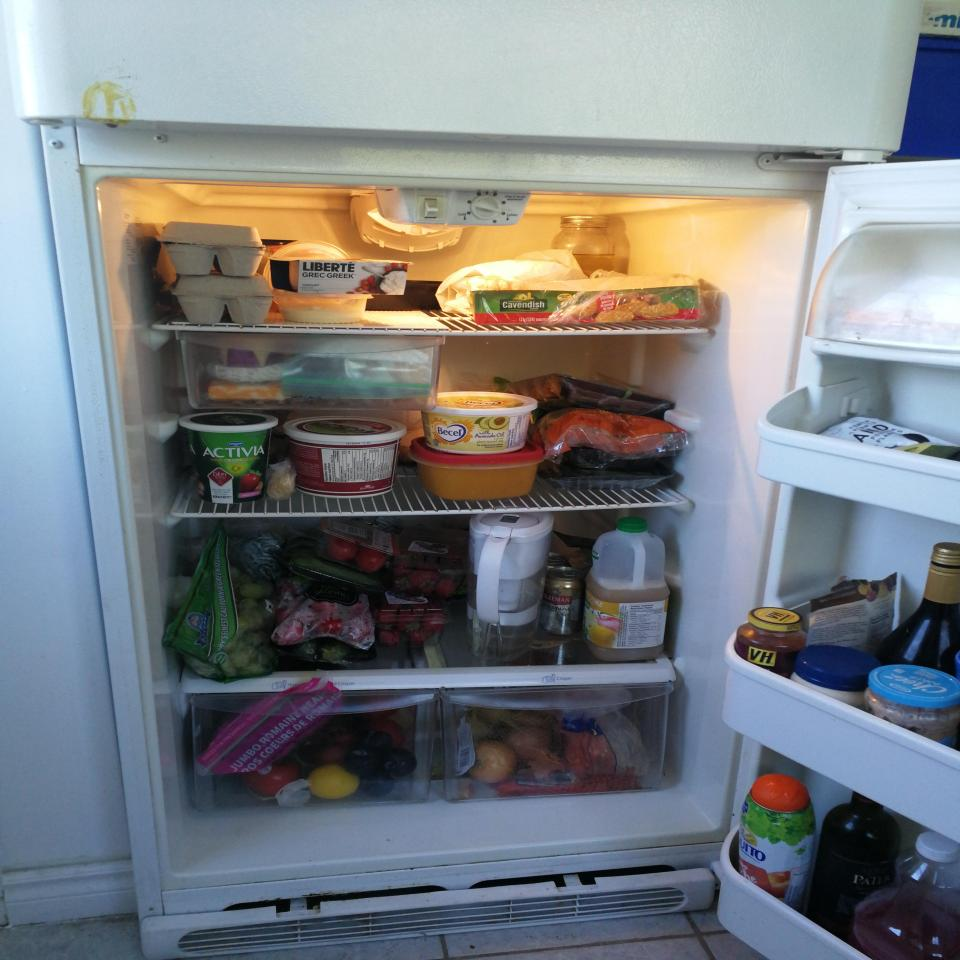Huevos: (160, 221, 266, 276), (174, 275, 272, 325)
Limón: (309, 766, 358, 798)
Tomate: (312, 530, 386, 572), (246, 762, 301, 796)
